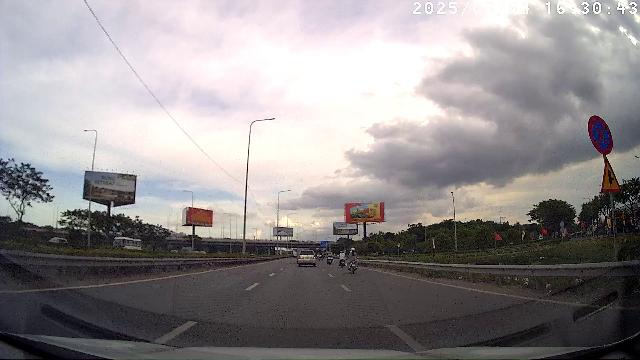130-cam-dung-va-do-xe: (587, 115, 614, 155)
